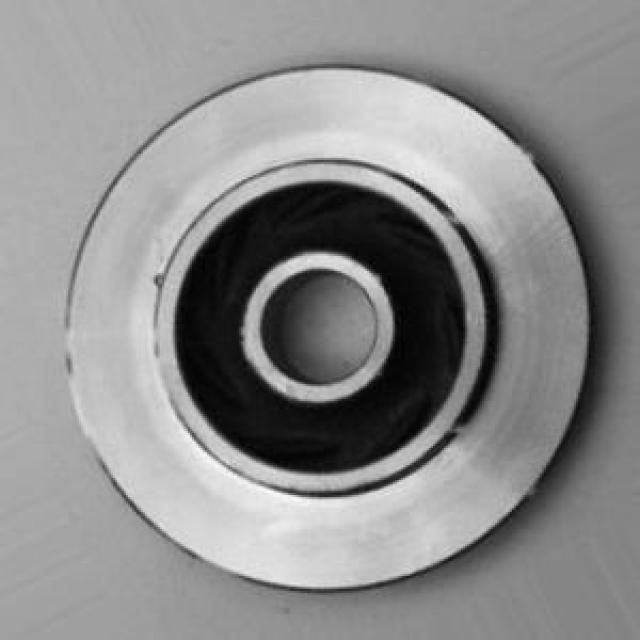Defect: (144, 268, 173, 298)
